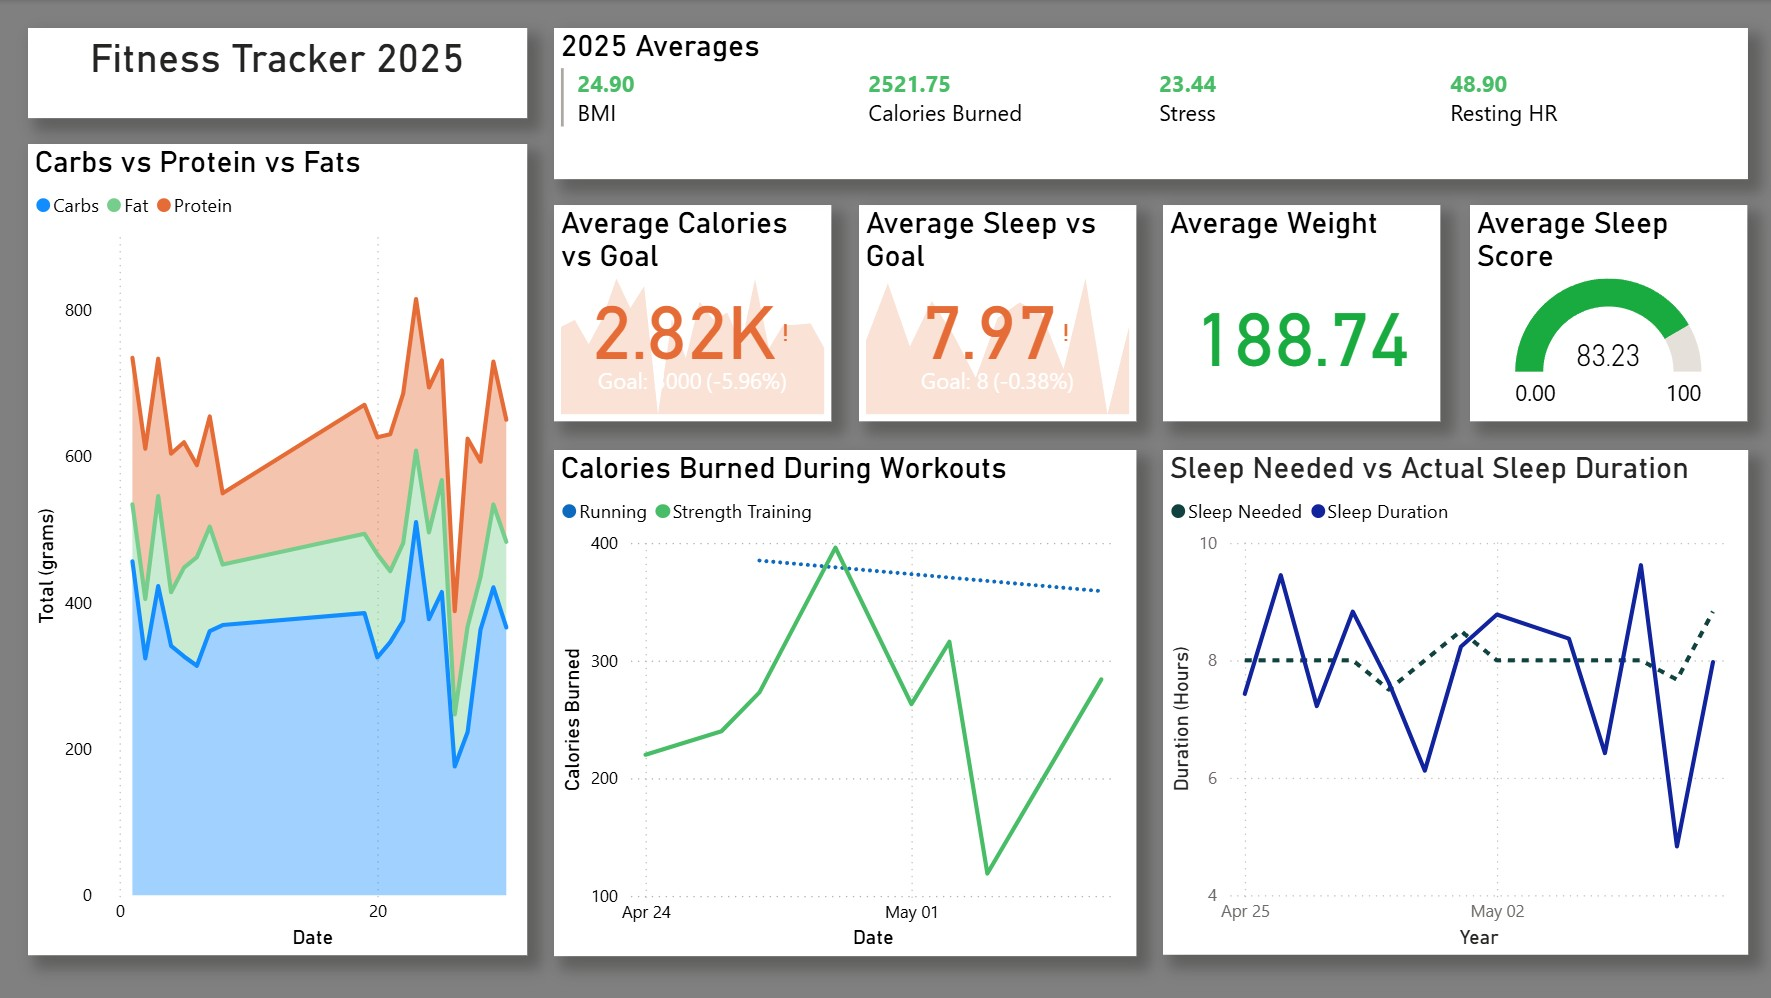

Layout of this report page (visuals, bound fields, positions):
{"tool":"powerbi","page":{"name":"Overview","canvas":[1280,720],"ordinal":0},"visuals":[{"type":"kpi","title":"Average Sleep vs Goal","fields":{"TrendLine":["sleep.entry_date"],"Indicator":["Sum(sleep.duration_hours)"],"Goal":["sleep.Sleep Goal"]},"box":[619.4,147.8,199.8,156.5],"z":0},{"type":"kpi","title":"Average Calories vs Goal","fields":{"TrendLine":["primary_nutrition.entry_date"],"Indicator":["Avg(primary_nutrition.calories)"],"Goal":["primary_nutrition.Calorie Goal"]},"box":[399.5,147.8,199.8,156.5],"z":1000},{"type":"card","title":"Average Weight","fields":{"Values":["Avg(weight.weight_lbs)"]},"box":[838.7,147.8,200.5,156.5],"z":2000},{"type":"gauge","title":"Average Sleep Score","fields":{"Y":["Avg(sleep.sleep_score)"],"MaxValue":["sleep.Max Sleep Score"]},"box":[1060.1,147.8,200.5,156.5],"z":3000},{"type":"textbox","box":[20.3,20.3,359.9,65.4],"z":4000},{"type":"stackedAreaChart","title":"Carbs vs Protein vs Fats","fields":{"Y":["Sum(primary_nutrition.carbs_g)","Sum(primary_nutrition.fat_g)","Sum(primary_nutrition.protein_g)"],"Category":["primary_nutrition.entry_date.Variation.Date Hierarchy.Day"]},"box":[20.3,104,359.9,585],"z":5000},{"type":"multiRowCard","title":"2025 Averages","fields":{"Values":["Avg(weight.bmi)","Avg(calories.total_calories)","Avg(Summary_Metrics.avg_stress_level)","Avg(heart_rate.resting_hr_bpm)"]},"box":[399.5,20.2,861,108.9],"z":6000},{"type":"lineChart","title":"Calories Burned During Workouts","fields":{"Y":["Avg(workouts.calories)"],"Category":["workouts.workout_date.Variation.Date Hierarchy.Quarter"],"Series":["workouts.activity_type"]},"box":[399.5,324.5,419.7,364.9],"z":7000},{"type":"lineChart","title":"Sleep Needed vs Actual Sleep Duration","fields":{"Category":["sleep.entry_date.Variation.Date Hierarchy.Year","sleep.entry_date.Variation.Date Hierarchy.Month","sleep.entry_date.Variation.Date Hierarchy.Day"],"Y":["Sum(sleep.sleep_need_hours)","Sum(sleep.duration_hours)"]},"box":[838.9,324.5,421.8,364.5],"z":8000}]}

Visuals, with their boxes in screenshot pixels (x1, y1, x2, y2), scaled from the page's 1280x720 canvas onto the 1771x998 screenshot:
"Average Sleep vs Goal" kpi: box(857, 205, 1133, 422)
"Average Calories vs Goal" kpi: box(553, 205, 829, 422)
"Average Weight" card: box(1160, 205, 1438, 422)
"Average Sleep Score" gauge: box(1467, 205, 1744, 422)
textbox: box(28, 28, 526, 119)
"Carbs vs Protein vs Fats" stackedAreaChart: box(28, 144, 526, 955)
"2025 Averages" multiRowCard: box(553, 28, 1744, 179)
"Calories Burned During Workouts" lineChart: box(553, 450, 1133, 956)
"Sleep Needed vs Actual Sleep Duration" lineChart: box(1161, 450, 1744, 955)
